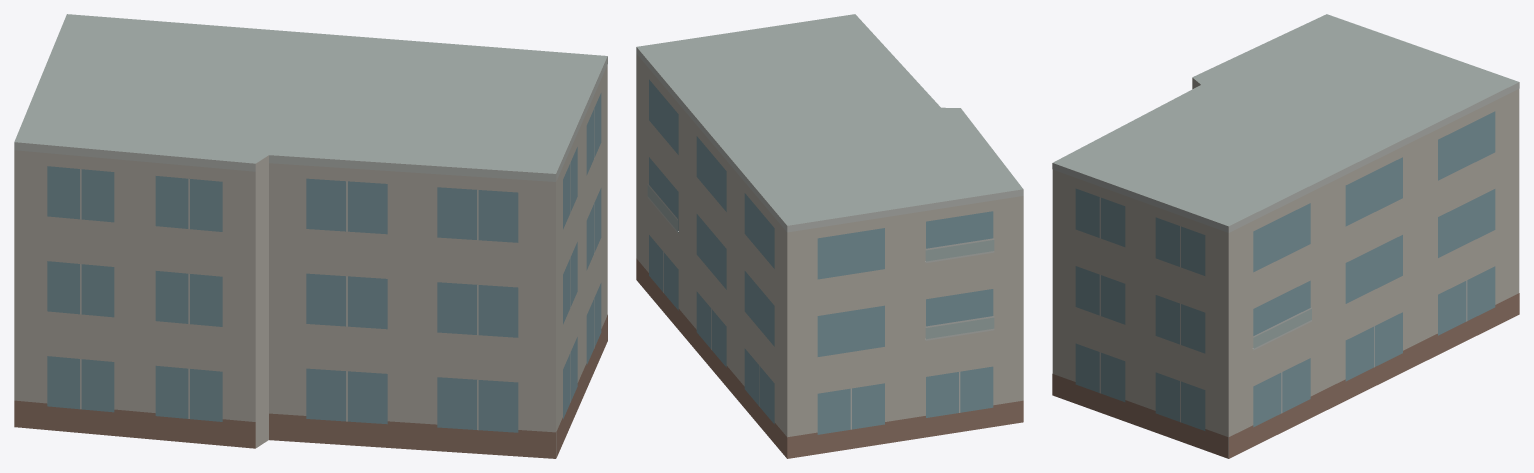
Rendered from survey-upis-32930185.glb.
3 renders of one model, left to right at view 1: azimuth 30°, elevation 25°; view 2: azimuth 150°, elevation 25°; view 3: azimuth 270°, elevation 25°, orthographic. The views are drawn at different scales.
Visible parts, largest first — view 1: survey-upis-32930185.tmp; view 2: survey-upis-32930185.tmp; view 3: survey-upis-32930185.tmp.
Boxes of the visible parts, box(x1,y1,x2,y2) form: survey-upis-32930185.tmp: box(14, 14, 607, 458); survey-upis-32930185.tmp: box(636, 14, 1023, 458); survey-upis-32930185.tmp: box(1052, 14, 1519, 458).
Bounding box in the file's own units: 16.86 × 8.6 × 15.67.
